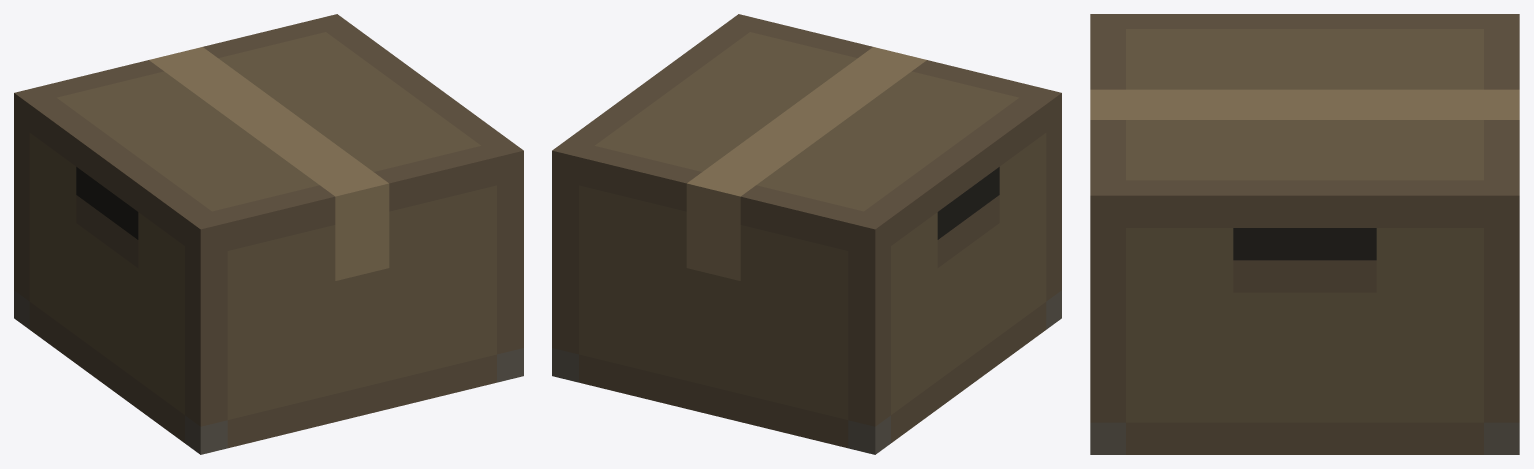
The model's file is Bunker - Free Sample-34-Cardboard_Dark_Brown_Close-14.obj.
3 renders of one model, left to right at view 1: azimuth 30°, elevation 25°; view 2: azimuth 150°, elevation 25°; view 3: azimuth 270°, elevation 25°, orthographic. The views are drawn at different scales.
Visible parts, largest first — view 1: Cardboard_Dark_Brown_Close-14; view 2: Cardboard_Dark_Brown_Close-14; view 3: Cardboard_Dark_Brown_Close-14.
Part boxes in pixels (x1,y1,x2,y2): Cardboard_Dark_Brown_Close-14: [14, 14, 523, 454]; Cardboard_Dark_Brown_Close-14: [552, 14, 1061, 454]; Cardboard_Dark_Brown_Close-14: [1090, 14, 1519, 454].
Size of the model in its own units: 0.24 by 0.16 by 0.24.
1 material, 1 textured.
